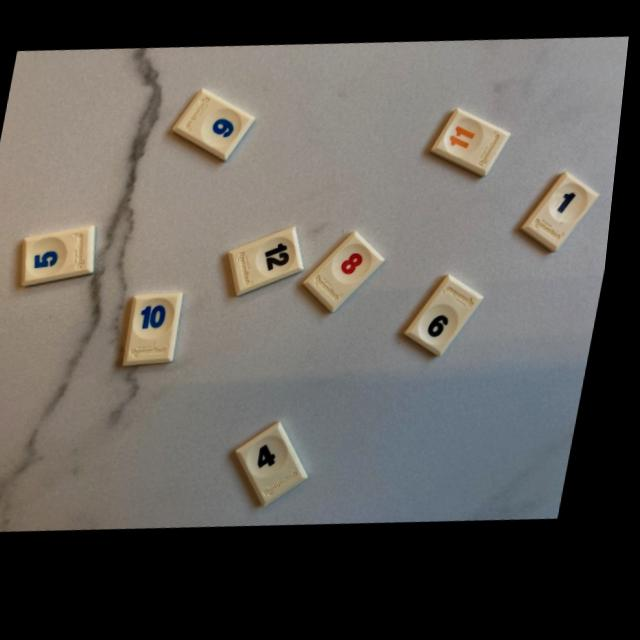black_1: (526, 185, 604, 264)
black_12: (235, 234, 309, 301)
black_4: (247, 429, 318, 513)
black_9: (414, 286, 490, 367)
blue_10: (130, 298, 189, 370)
blue_5: (28, 228, 99, 287)
blue_6: (176, 94, 257, 165)
orange_11: (434, 119, 514, 188)
red_8: (310, 241, 391, 321)
